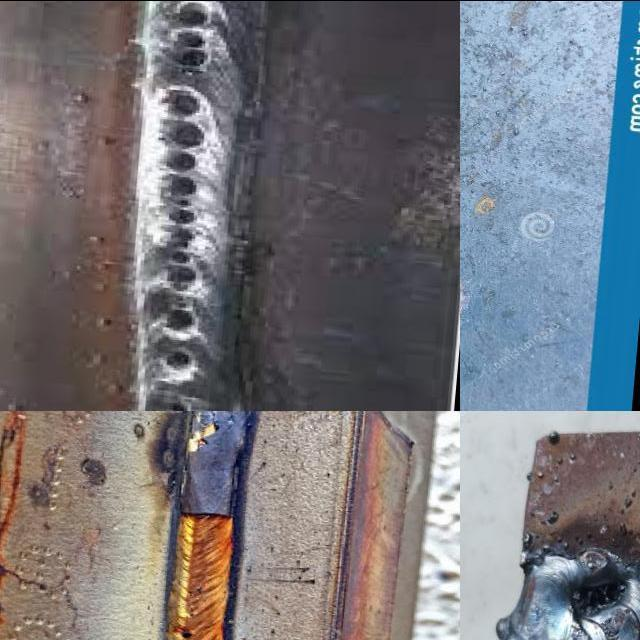defect: (157, 80, 209, 297), (164, 0, 219, 77), (571, 578, 630, 617), (149, 303, 204, 340), (155, 346, 206, 380), (600, 619, 620, 640), (177, 627, 195, 640)
